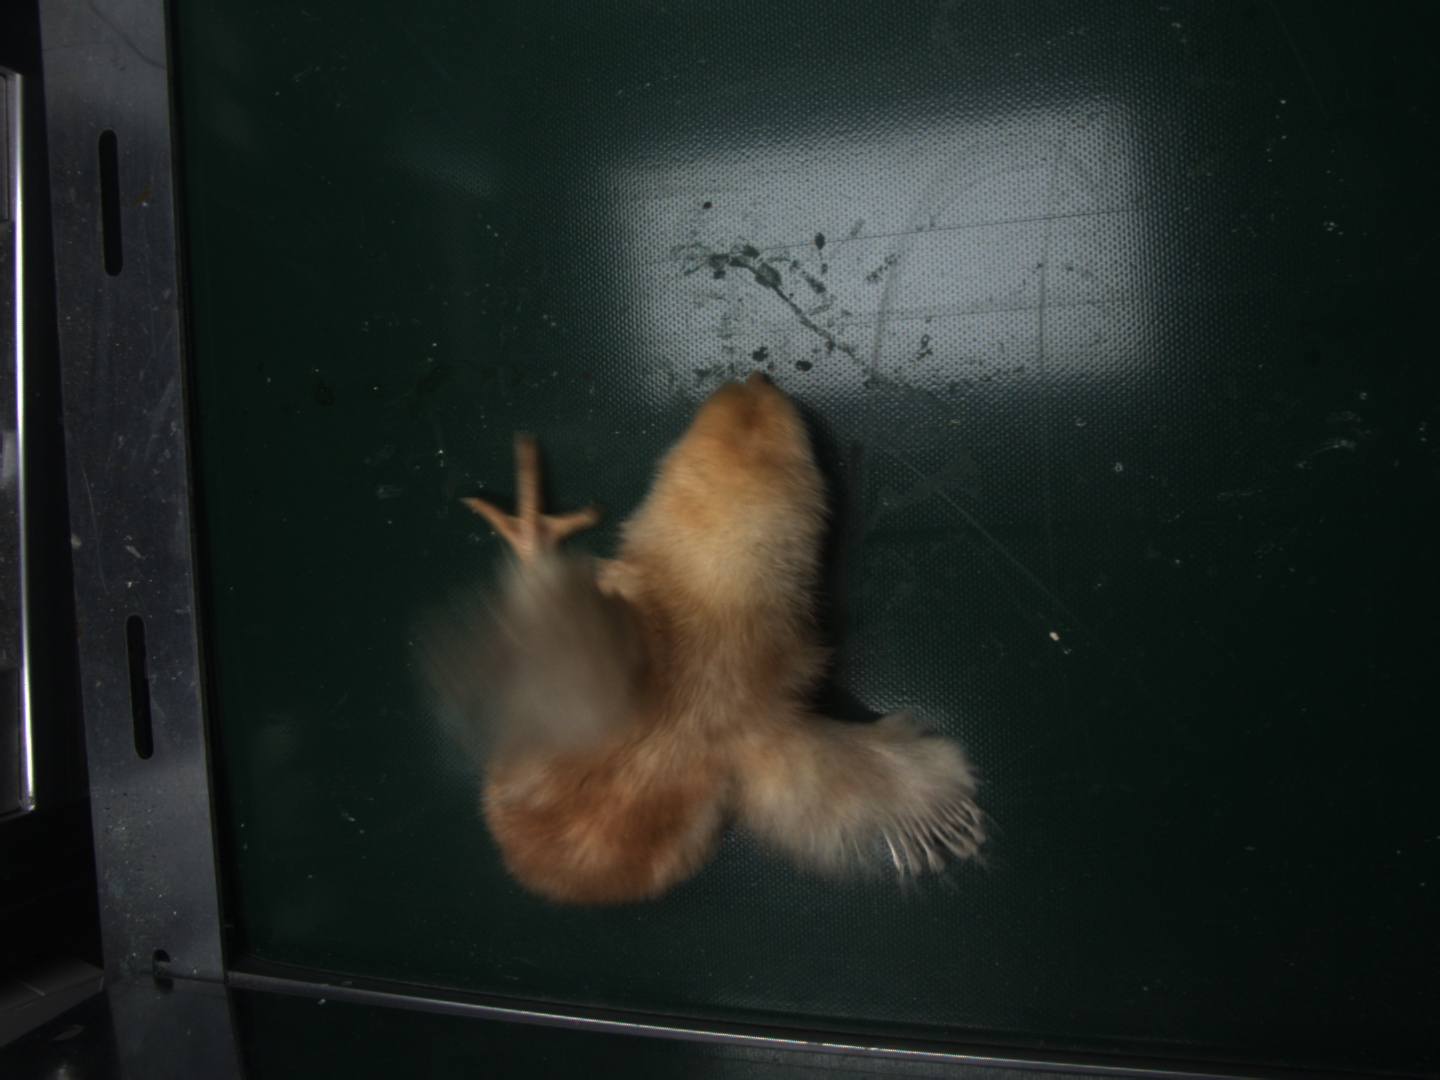female: (883, 794, 985, 876)
